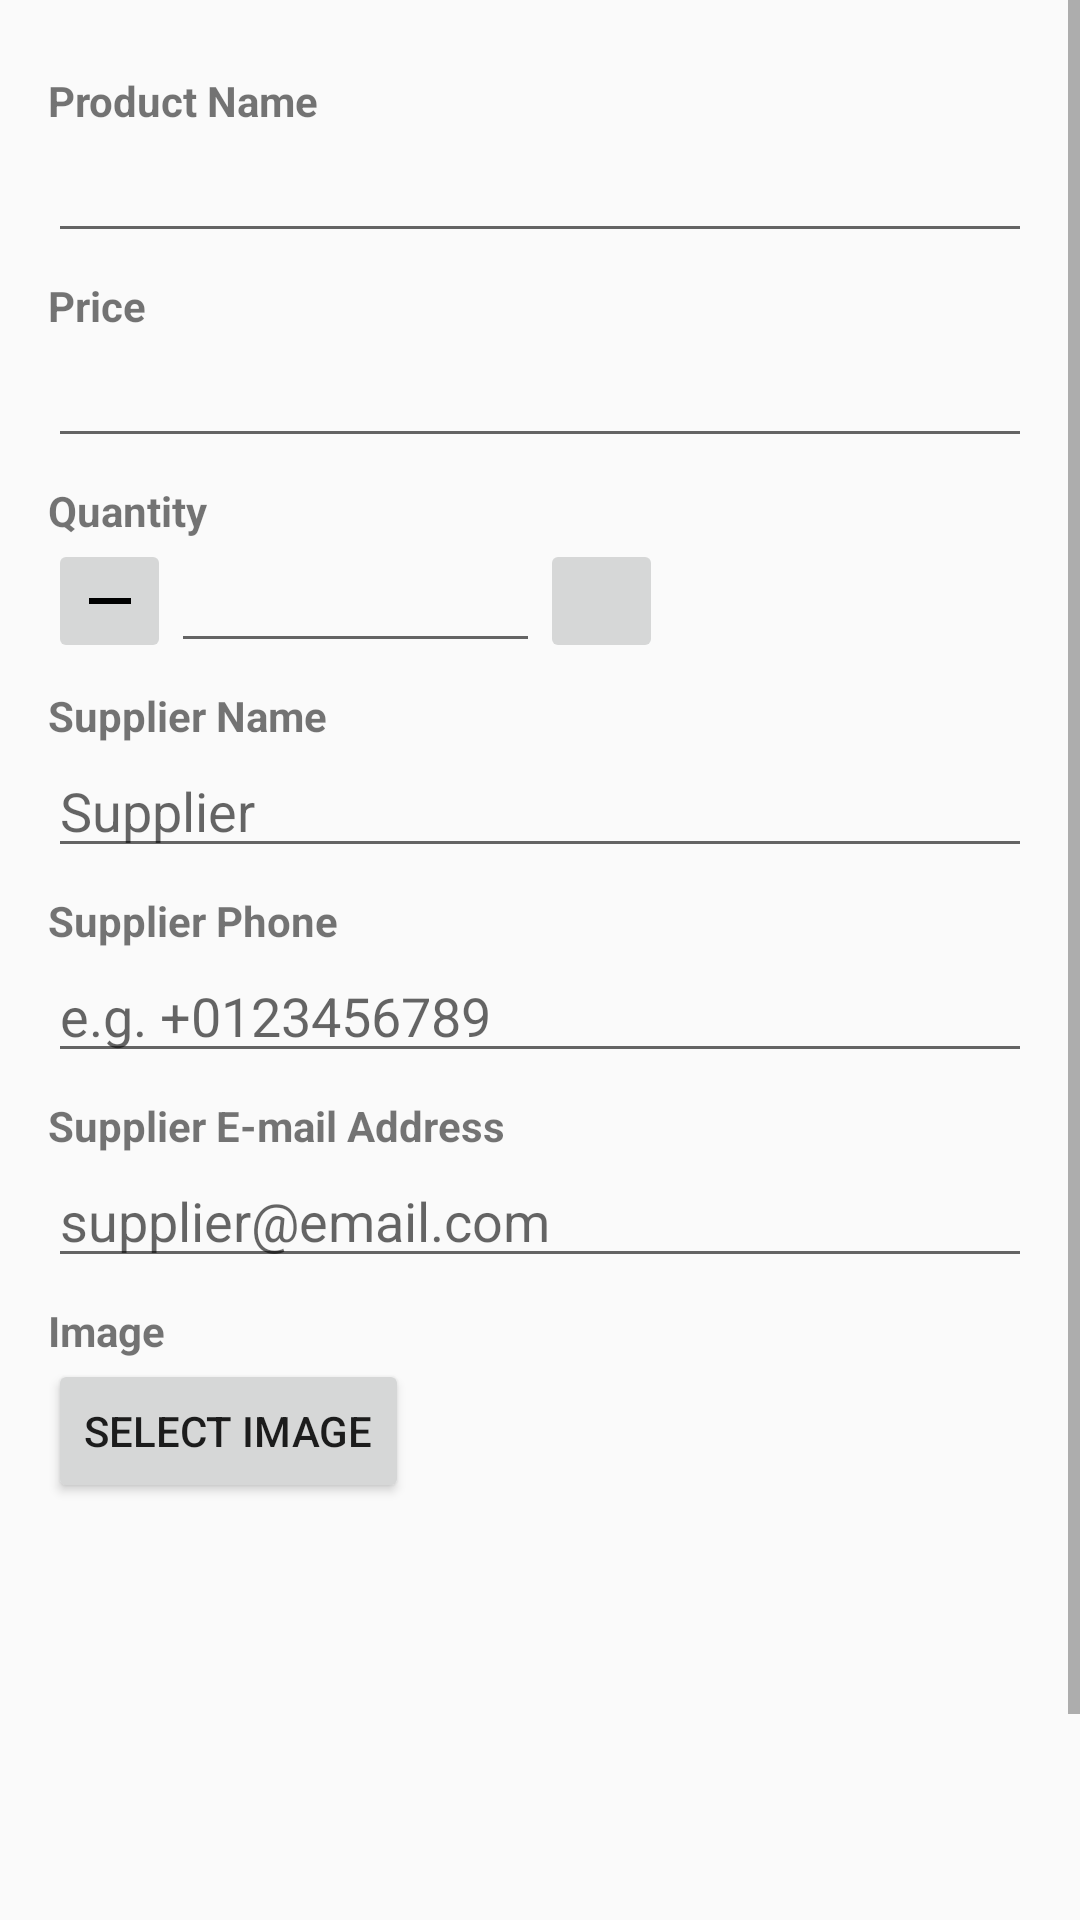

Named icons in this screenshot (1080x1920) and their centers, (x,y):
remove: (109,601)
